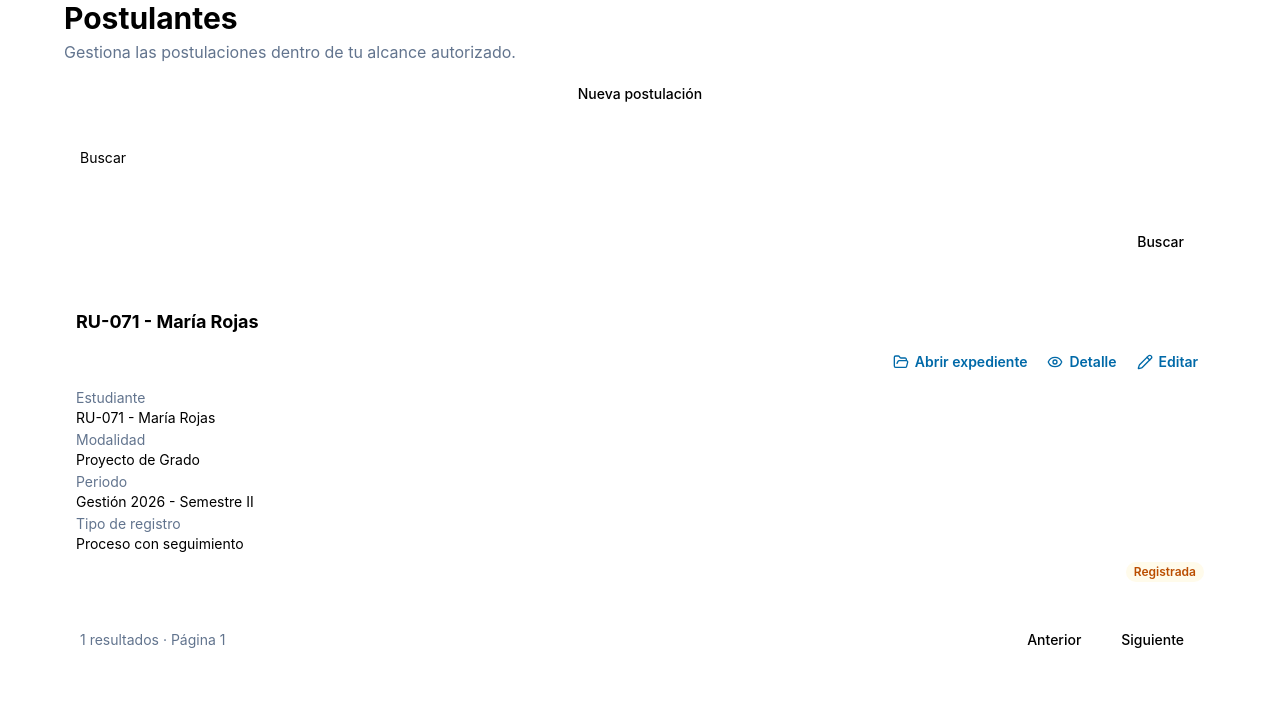
Test case: PostulantesPage US-007 › limita la edición a código y observaciones generales
Click the button "Editar" at [1167, 362], box top-left (1130, 344), bottom-right (1204, 380)
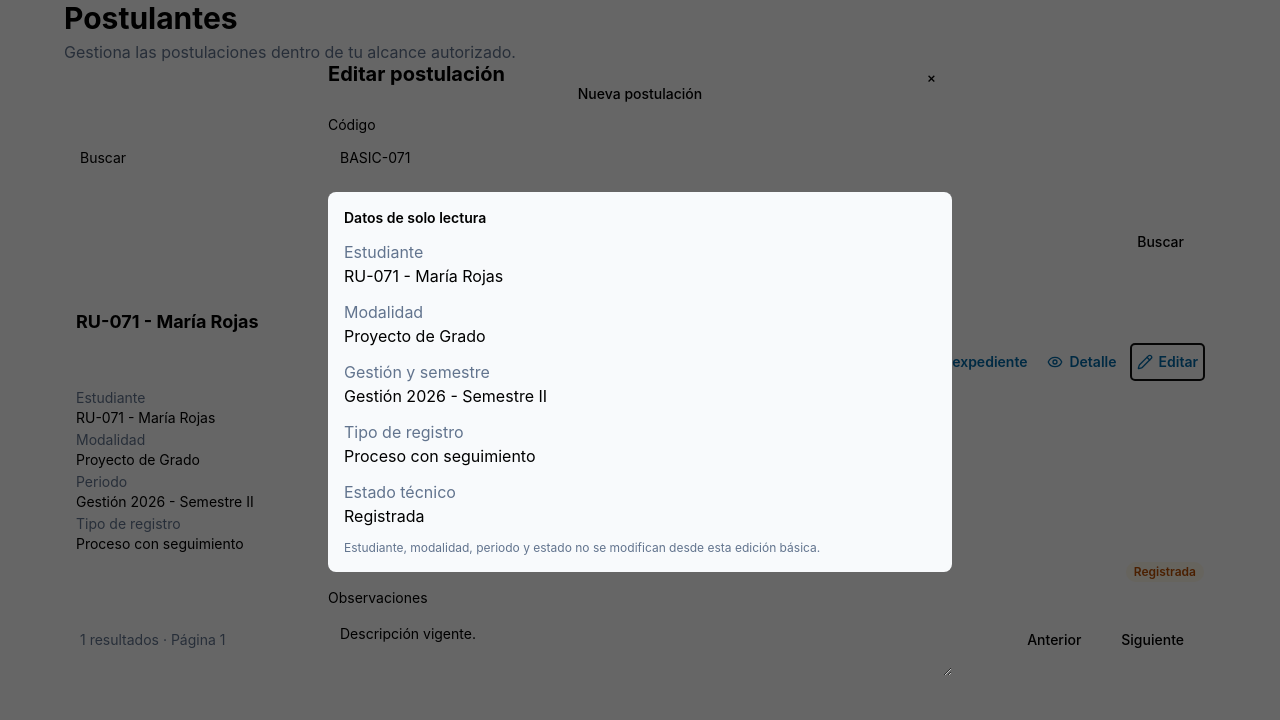
expect the field labelled "Código" holds "BASIC-071": met, box top-left (328, 140), bottom-right (952, 176)
expect the text box labelled "Observaciones" holds "Descripción vigente.": met, box top-left (328, 612), bottom-right (952, 676)
expect the text "Datos de solo lectura" is shown: met, box top-left (344, 209), bottom-right (486, 226)
